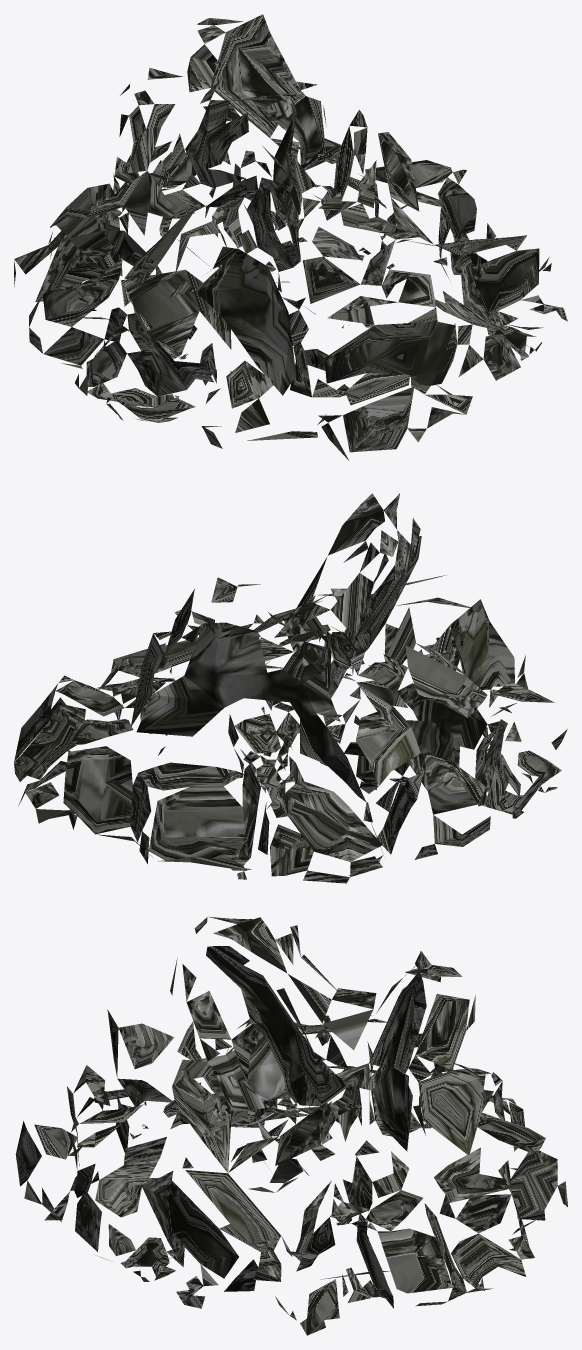
The model's file is rubble-pile-pixelated.glb.
The picture shows the model from 3 angles, top to bottom: view 1: azimuth 30°, elevation 25°; view 2: azimuth 150°, elevation 25°; view 3: azimuth 270°, elevation 25°; orthographic projection. The views are drawn at different scales.
Parts seen in each view (by area): view 1: mesh; view 2: mesh; view 3: mesh.
Boxes of the visible parts, left/top/right/bottom form: mesh: left=14, top=14, right=567, bottom=460; mesh: left=14, top=493, right=567, bottom=883; mesh: left=15, top=916, right=567, bottom=1335.
Size of the model in its own units: 1.9 by 1.07 by 1.98.
1 material, 1 textured.
